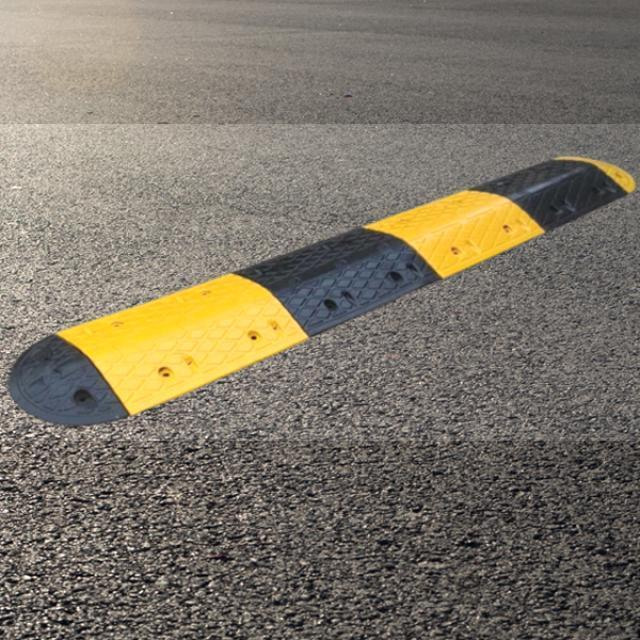Marked Bump: (26, 130, 622, 435)
